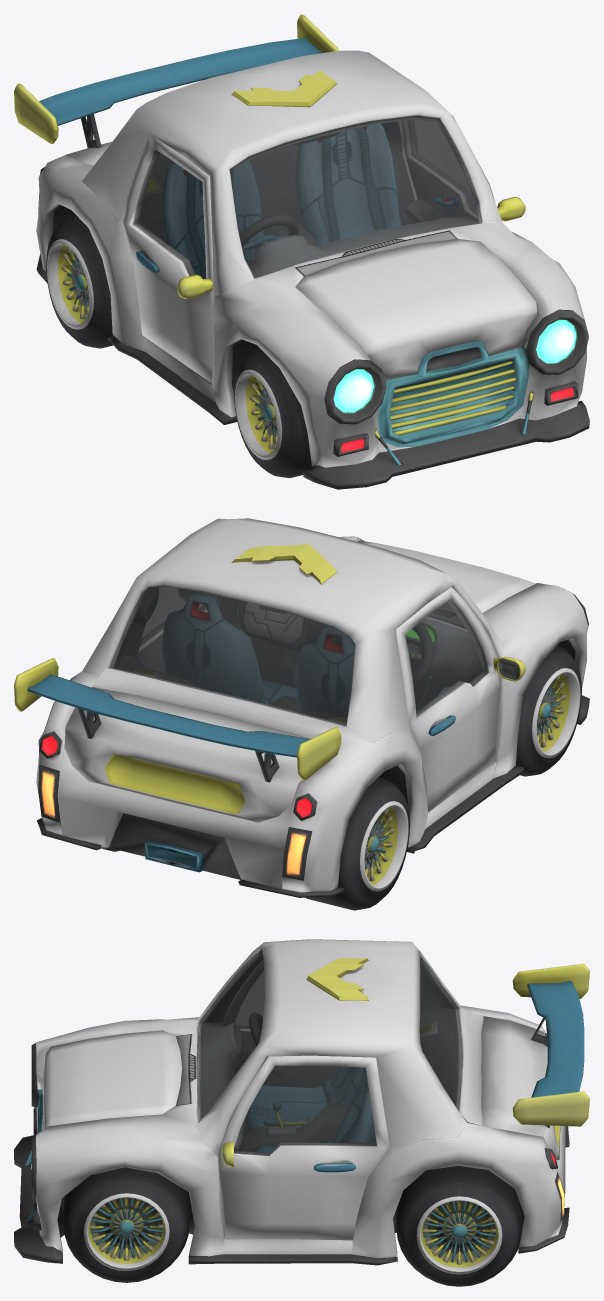
Rendered from syntax car.glb.
The picture shows the model from 3 angles, top to bottom: view 1: azimuth 30°, elevation 25°; view 2: azimuth 150°, elevation 25°; view 3: azimuth 270°, elevation 25°; orthographic projection. The views are drawn at different scales.
Parts seen in each view (by area): view 1: body, Circle.001_Window_0, Frunk, Circle.004_Interior_0, Door_right, Trunk, fr, br, Door_left; view 2: body, Trunk, Circle.001_Window_0, Circle.004_Interior_0, Door_right, br, fr, Frunk, Door_left; view 3: body, Door_left, Trunk, bl, fl, Circle.004_Interior_0, Frunk, Circle.001_Window_0, Door_right.
Boxes of the visible parts, x1,y1,x2,y2 form: body: (36,50,589,489); Circle.001_Window_0: (229,116,481,278); Frunk: (295,239,537,380); Circle.004_Interior_0: (145,124,478,364); Door_right: (121,134,213,383); Trunk: (14,14,338,165); fr: (234,346,311,478); br: (46,215,113,348); Door_left: (401,120,525,224); body: (36,518,589,897); Trunk: (14,658,341,822); Circle.001_Window_0: (110,586,465,725); Circle.004_Interior_0: (129,592,482,724); Door_right: (396,587,525,812); br: (306,777,409,910); fr: (516,645,581,776); Frunk: (357,540,535,612); Door_left: (122,587,222,672); body: (14,939,569,1265); Door_left: (219,1055,389,1240); Trunk: (481,963,589,1159); bl: (396,1165,522,1286); fl: (63,1167,189,1282); Circle.004_Interior_0: (201,1013,437,1152); Frunk: (42,1030,181,1129); Circle.001_Window_0: (198,951,461,1121); Door_right: (222,960,338,1087).
Bounding box in the file's own units: 28.8 × 21.36 × 45.1.
Materials: 4 (4 with a texture image).
